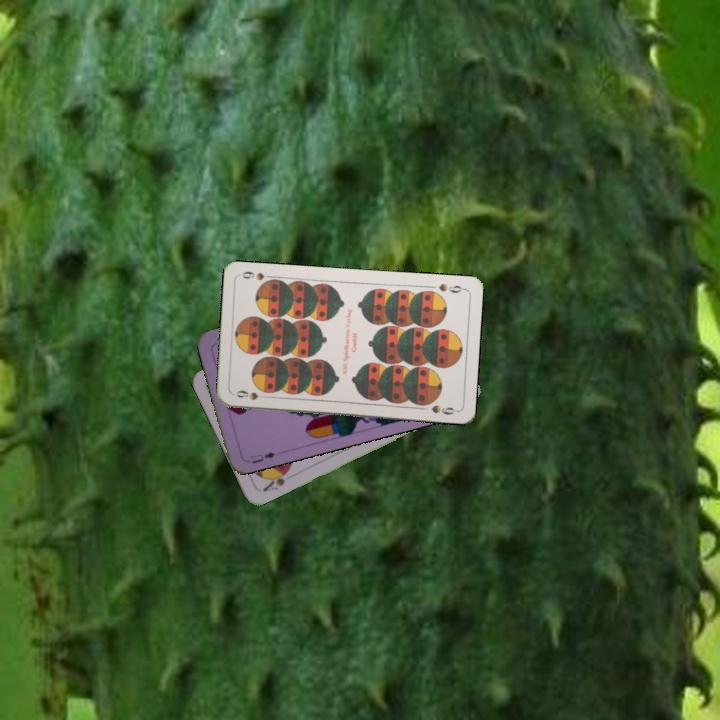EU: (246, 448, 278, 466)
S9: (233, 386, 271, 402), (434, 279, 467, 295)
SA: (259, 465, 293, 494)
